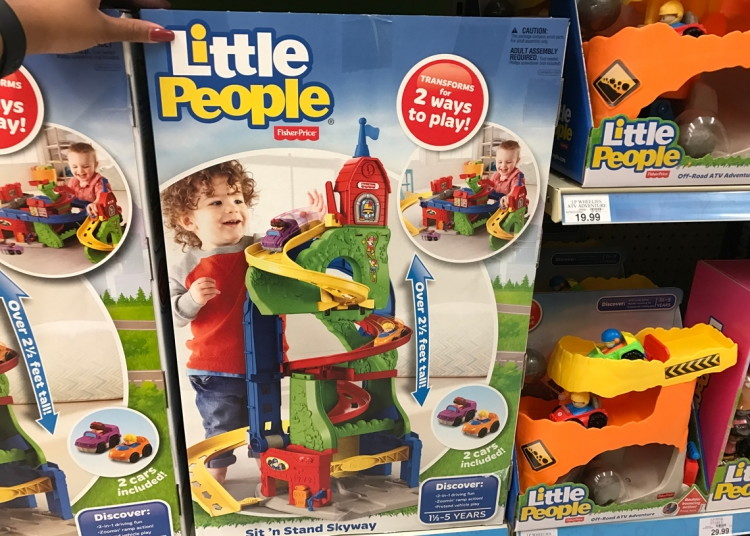Not_Face: (168, 157, 267, 250), (64, 141, 115, 186), (495, 137, 525, 178)
